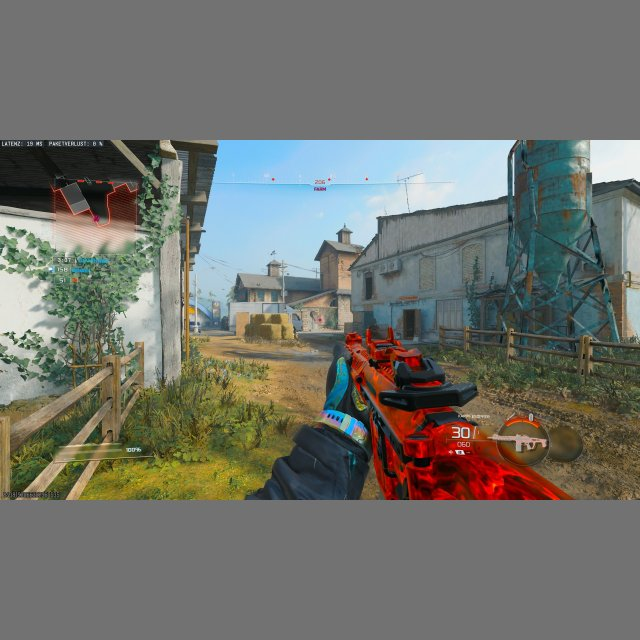player: (292, 313, 302, 341)
